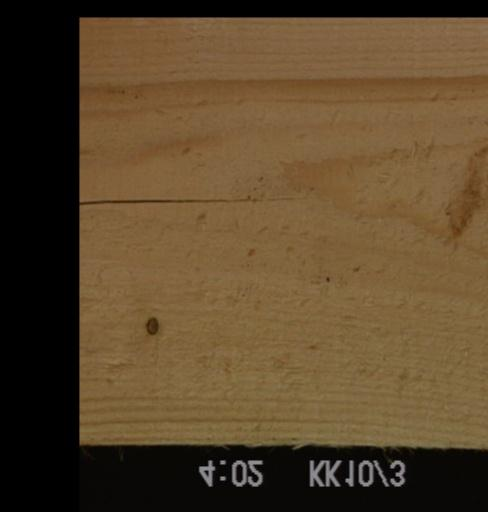dry_knot: (143, 314, 158, 338)
split: (79, 194, 318, 208)
